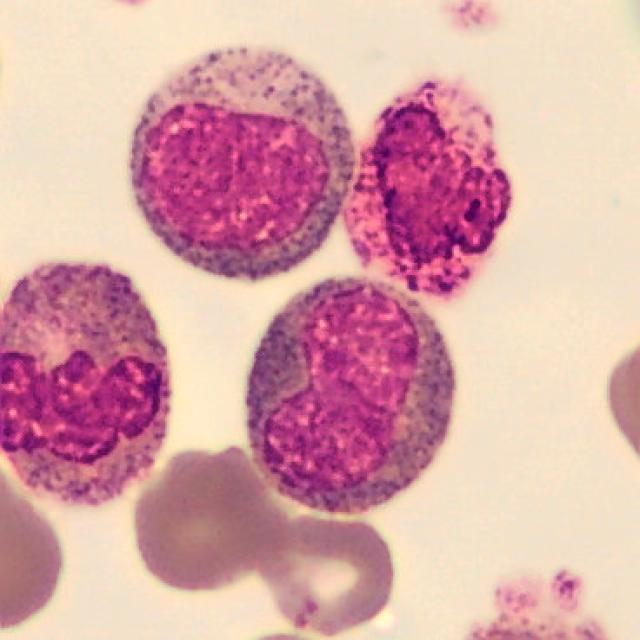Metamielocito: (245, 277, 456, 517)
